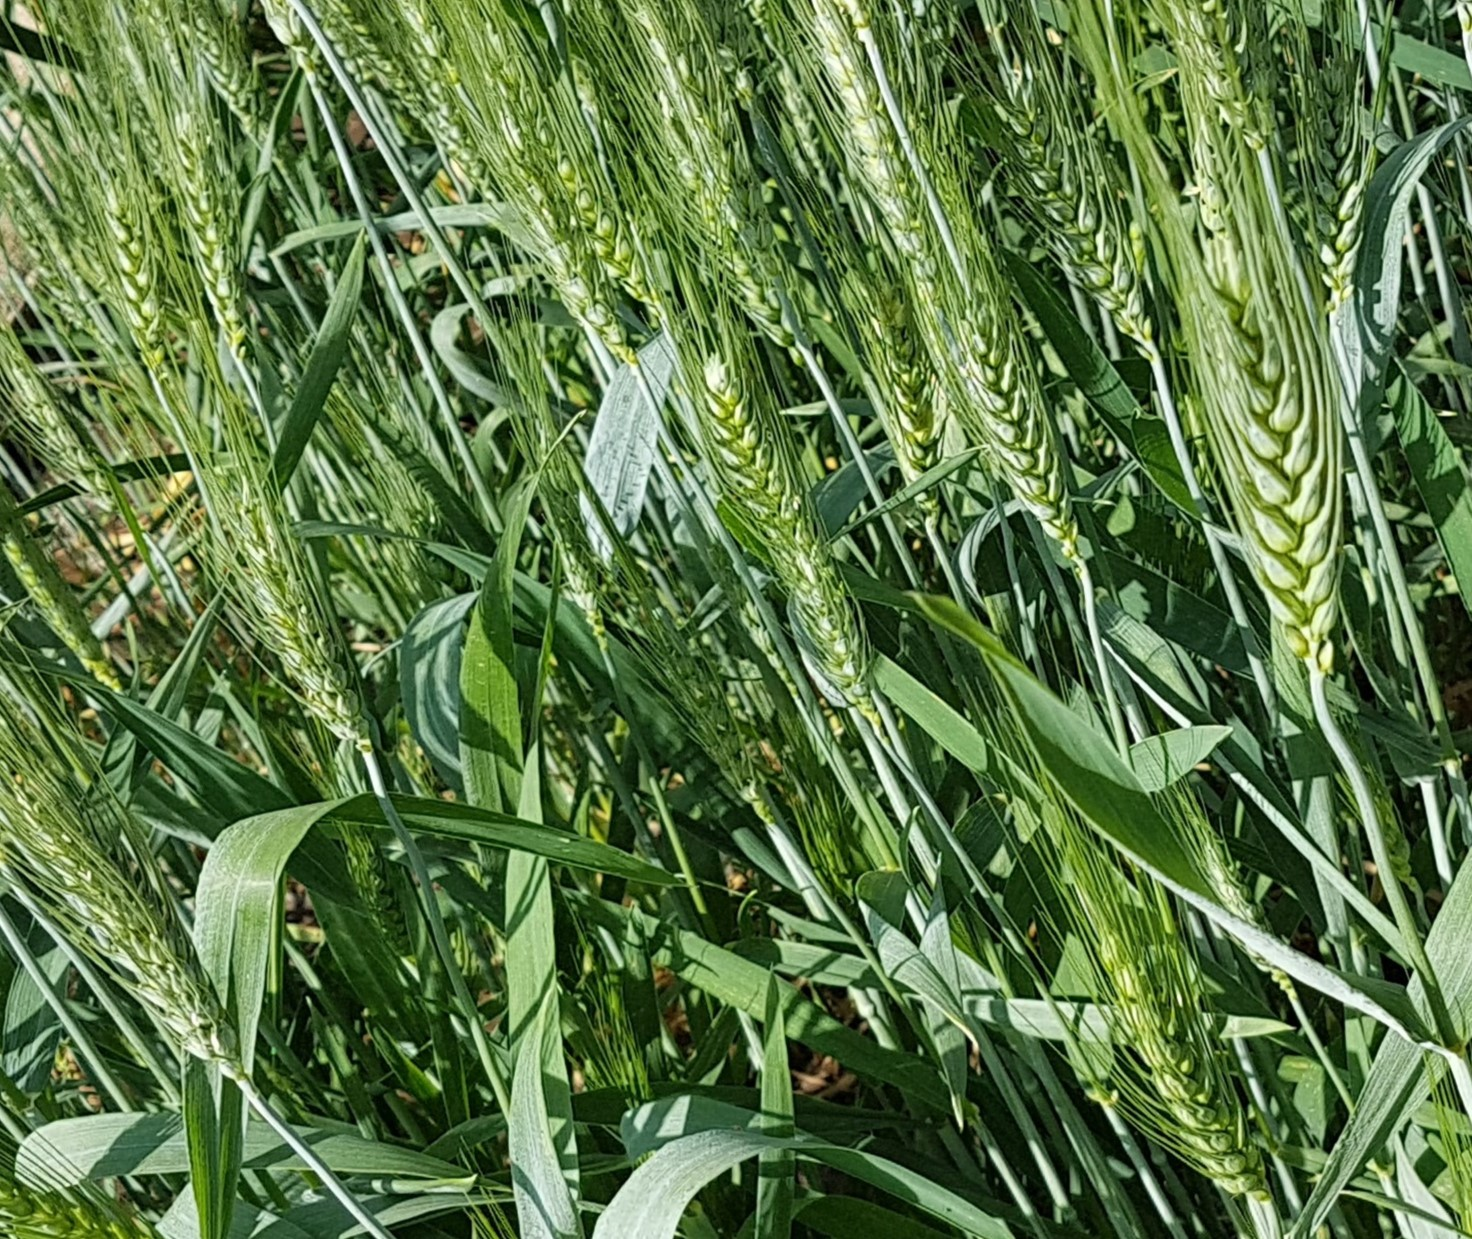Healthy Wheat: (1048, 879, 1295, 1205), (15, 795, 256, 1082), (940, 297, 1113, 560), (679, 339, 813, 556)
